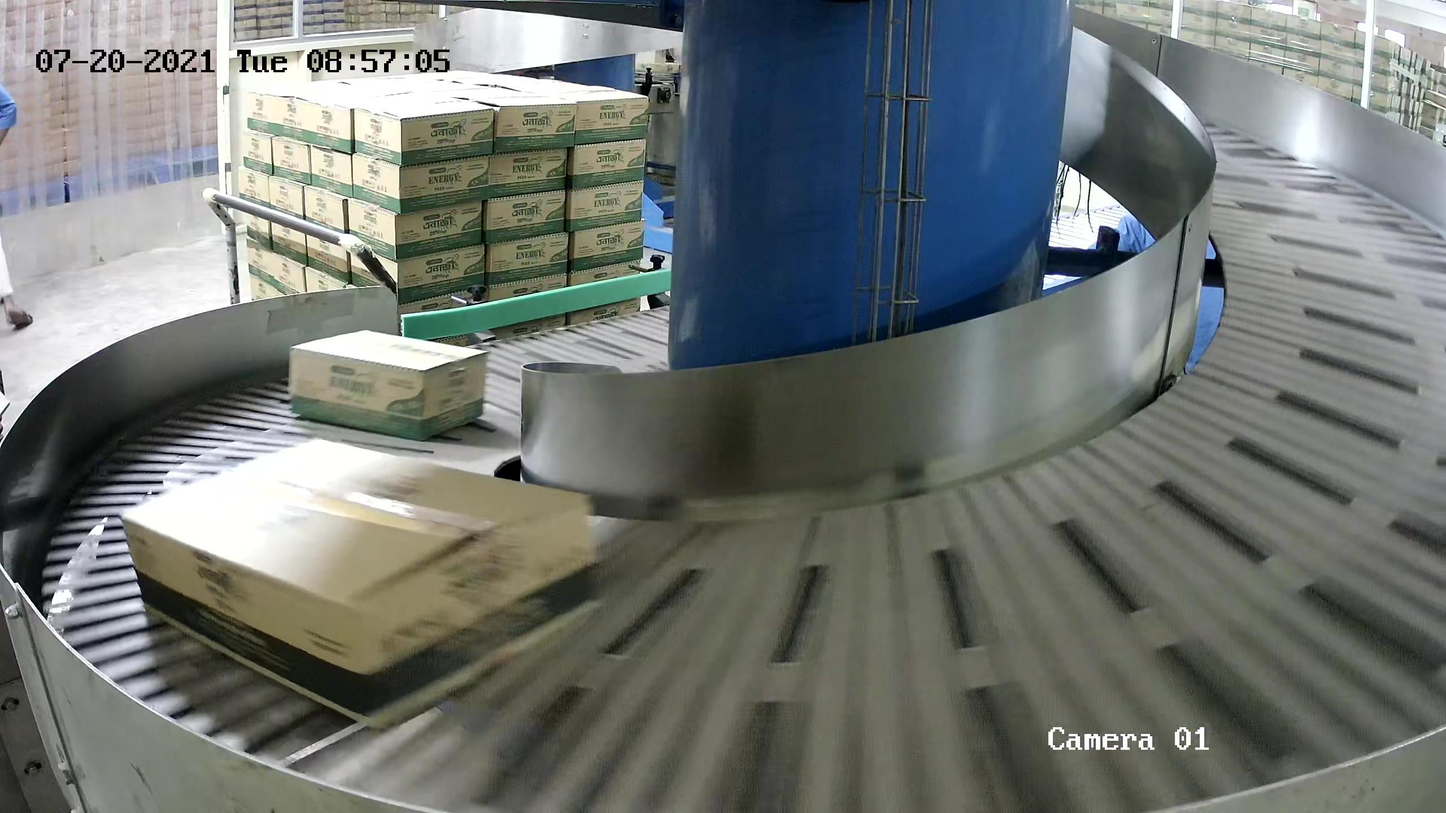Box: (116, 433, 607, 736), (286, 326, 489, 443)
